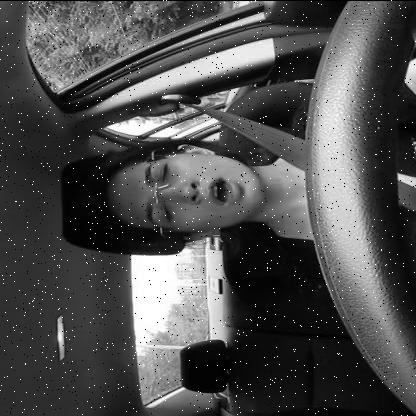seatbelt: (63, 88, 416, 250)
